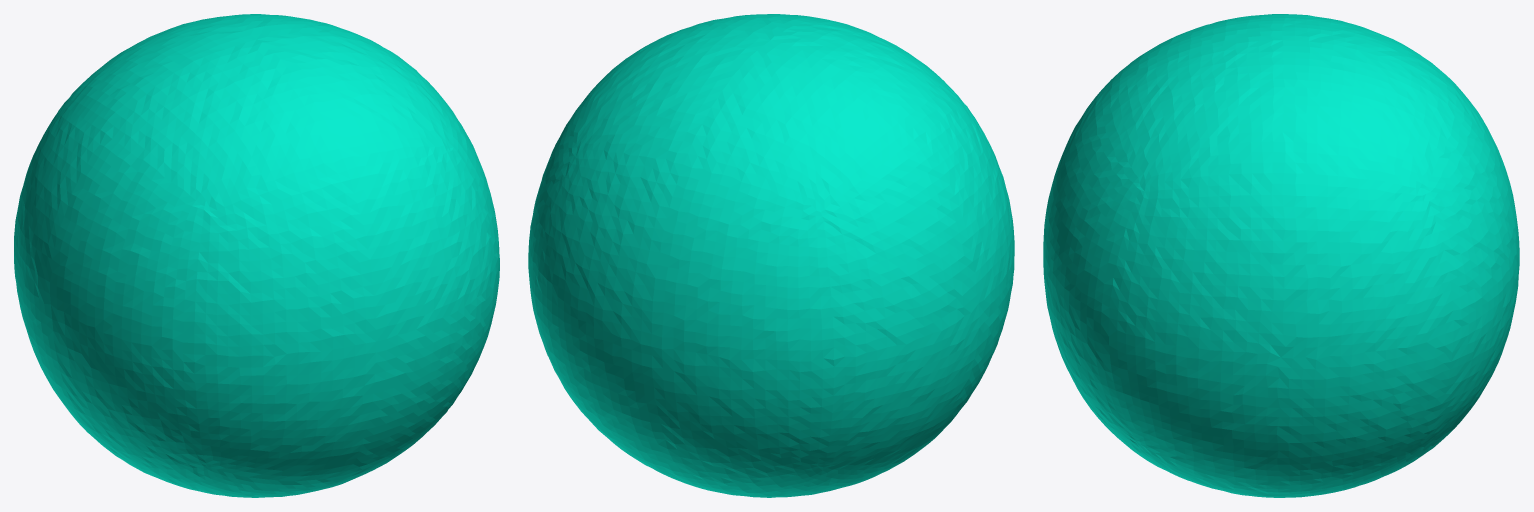
The model's file is Sea44.fbx.
3 views of the same model, side by side, from view 1: azimuth 30°, elevation 25°; view 2: azimuth 150°, elevation 25°; view 3: azimuth 270°, elevation 25° (orthographic).
Visible parts, largest first — view 1: pCube1; view 2: pCube1; view 3: pCube1.
Boxes of the visible parts, x1,y1,x2,y2 form: pCube1: (14, 14, 499, 497); pCube1: (528, 14, 1014, 497); pCube1: (1043, 14, 1519, 497).
Size of the model in its own units: 40.42 by 40.44 by 40.41.
